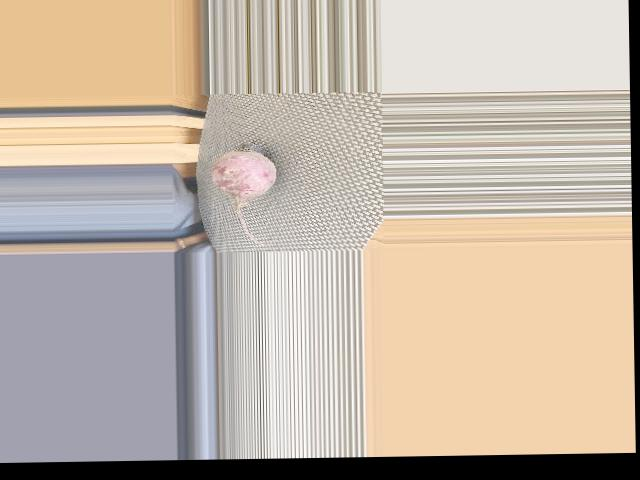beet: (209, 141, 276, 244)
